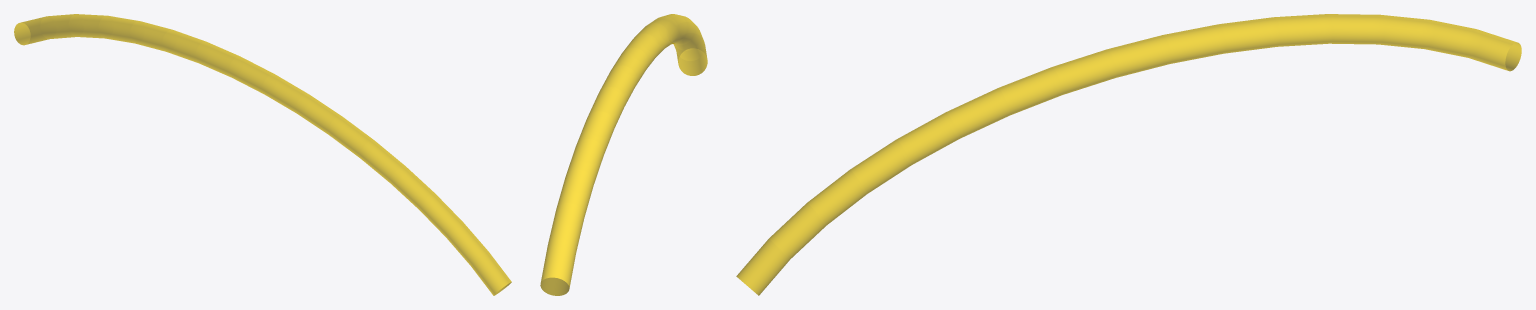
Rendered from Event_419990632_track_76.fbx.
3 views of the same model, side by side, from view 1: azimuth 30°, elevation 25°; view 2: azimuth 150°, elevation 25°; view 3: azimuth 270°, elevation 25° (orthographic). The views are drawn at different scales.
Parts seen in each view (by area): view 1: Model; view 2: Model; view 3: Model.
Boxes of the visible parts, left/top/right/bottom form: Model: left=14, top=14, right=511, bottom=295; Model: left=540, top=14, right=707, bottom=295; Model: left=736, top=14, right=1521, bottom=295.
Bounding box in the file's own units: 0.4112 × 0.2877 × 1.05.
